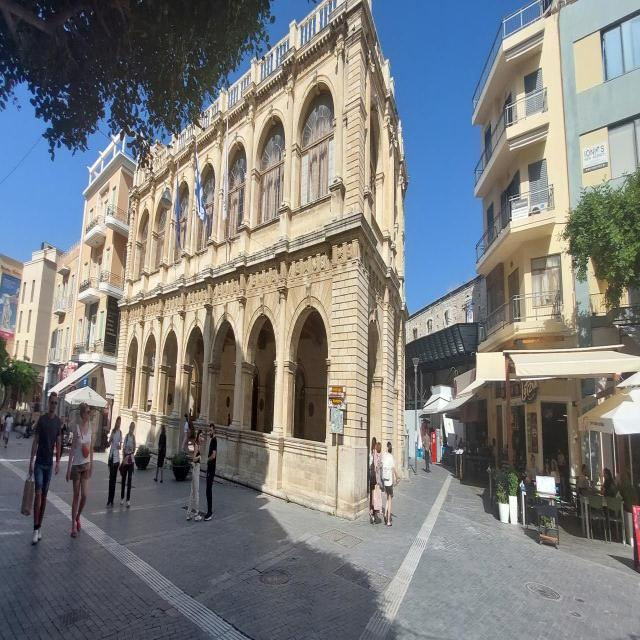Loggia: (110, 1, 410, 527)
